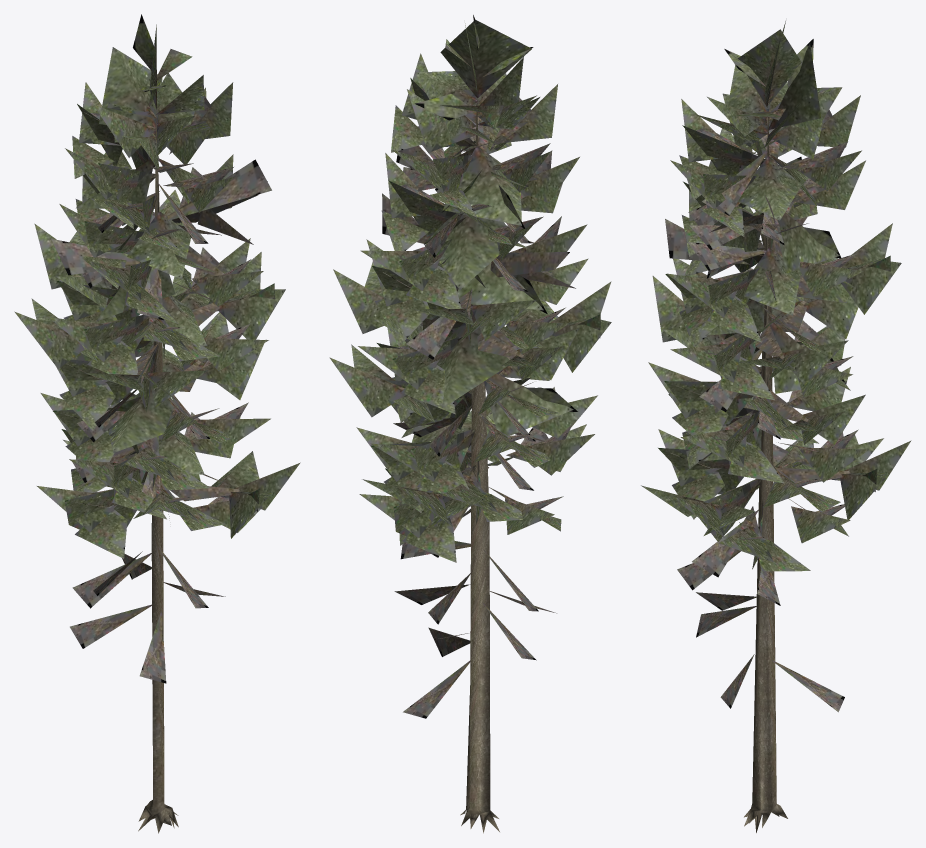
Rendered from tundra-fir-a-map.glb.
3 renders of one model, left to right at view 1: azimuth 30°, elevation 25°; view 2: azimuth 150°, elevation 25°; view 3: azimuth 270°, elevation 25°, orthographic. The views are drawn at different scales.
Parts seen in each view (by area): view 1: douglas_fir_a_LOD0; view 2: douglas_fir_a_LOD0; view 3: douglas_fir_a_LOD0.
Boxes of the visible parts, x1,y1,x2,y2 form: douglas_fir_a_LOD0: (14, 14, 300, 833); douglas_fir_a_LOD0: (329, 15, 611, 833); douglas_fir_a_LOD0: (641, 21, 911, 832).
Size of the model in its own units: 12.76 by 41.54 by 12.58.
Materials: 1 (1 with a texture image).
